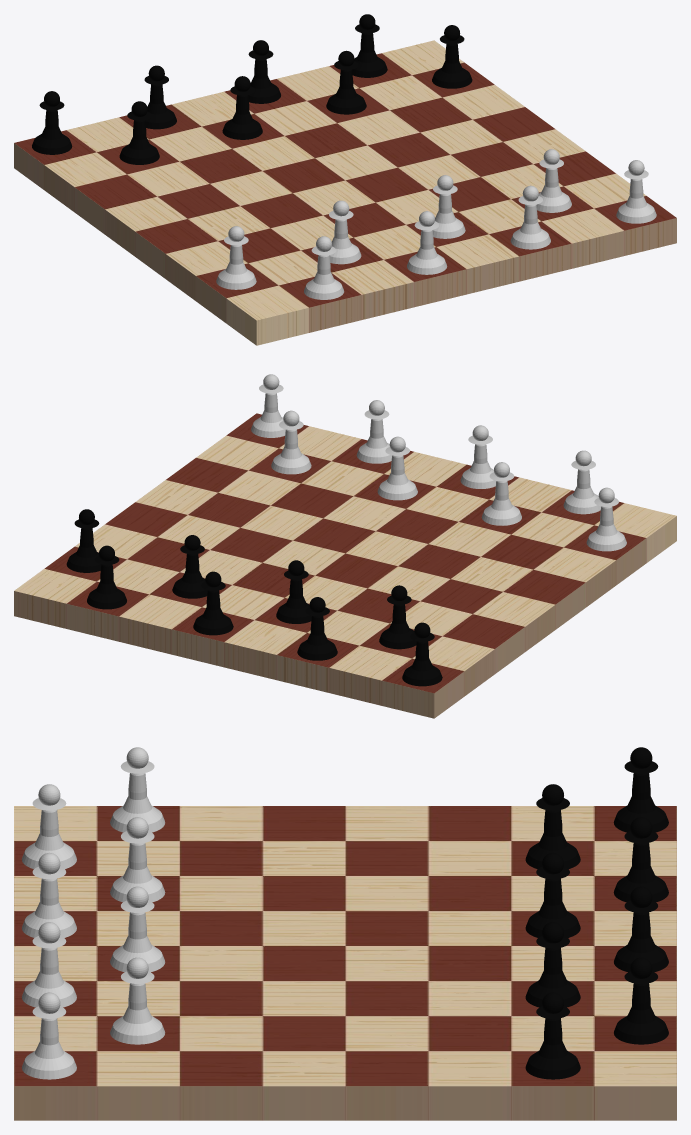
The model's file is checkers.obj.
3 views of the same model, one above another, from view 1: azimuth 30°, elevation 25°; view 2: azimuth 150°, elevation 25°; view 3: azimuth 270°, elevation 25° (orthographic). The views are drawn at different scales.
Visible parts, largest first — view 1: Cube, Cylinder.014, Cylinder, Cylinder.007, Cylinder.013, Cylinder.006, Cylinder.009, Cylinder.015, Cylinder.005, Cylinder.001, Cylinder.008, Cylinder.012 (+5 smaller); view 2: Cube, Cylinder.011, Cylinder.010, Cylinder.008, Cylinder.004, Cylinder, Cylinder.003, Cylinder.012, Cylinder.002, Cylinder.001, Cylinder.009, Cylinder.014 (+5 smaller); view 3: Cube, Cylinder.012, Cylinder.004, Cylinder.007, Cylinder.015, Cylinder.011, Cylinder.003, Cylinder.006, Cylinder.014, Cylinder.008, Cylinder, Cylinder.010 (+5 smaller).
Part boxes in pixels (box(x1,y1,x2,y2)): Cube: box(14, 40, 676, 345); Cylinder.014: box(326, 50, 366, 114); Cylinder: box(216, 226, 256, 289); Cylinder.007: box(616, 160, 656, 223); Cylinder.013: box(222, 76, 262, 139); Cylinder.006: box(510, 185, 550, 249); Cylinder.009: box(119, 101, 159, 164); Cylinder.015: box(432, 25, 472, 88); Cylinder.005: box(407, 211, 447, 274); Cylinder.001: box(304, 236, 344, 299); Cylinder.008: box(32, 91, 72, 154); Cylinder.012: box(352, 14, 387, 77); Cube: box(14, 413, 676, 718); Cylinder.011: box(193, 571, 233, 635); Cylinder.010: box(297, 597, 337, 660); Cylinder.008: box(402, 622, 442, 686); Cylinder.004: box(271, 410, 311, 474); Cylinder: box(586, 487, 626, 551); Cylinder.003: box(377, 436, 417, 500); Cylinder.012: box(87, 545, 126, 609); Cylinder.002: box(481, 462, 521, 525); Cylinder.001: box(563, 450, 600, 514); Cylinder.009: box(379, 585, 416, 649); Cylinder.014: box(172, 535, 207, 598); Cube: box(14, 806, 676, 1120); Cylinder.012: box(614, 957, 668, 1044); Cylinder.004: box(110, 957, 165, 1044); Cylinder.007: box(22, 992, 76, 1079); Cylinder.015: box(525, 992, 580, 1079); Cylinder.011: box(614, 886, 668, 972); Cylinder.003: box(110, 886, 165, 972); Cylinder.006: box(22, 922, 76, 1007); Cylinder.014: box(525, 922, 580, 1007); Cylinder.008: box(613, 747, 668, 832); Cylinder: box(110, 747, 165, 832); Cylinder.010: box(613, 817, 668, 902).
Bounding box in the file's own units: 0.6 × 0.1088 × 0.6.
